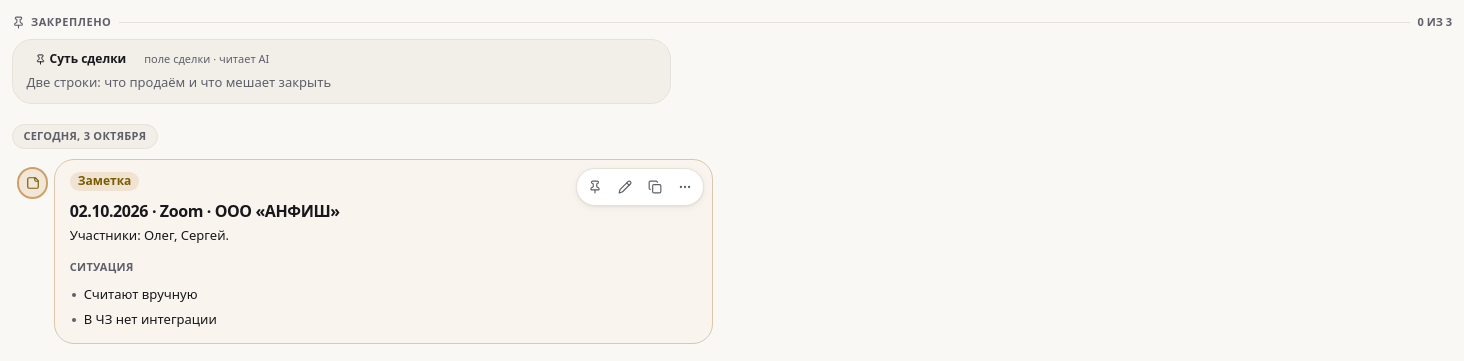
Test: DealActivityFeed: действия по правам › удалить — из меню «Ещё», без диалога подтверждения: сразу мутация (отмена — тостом)
Click the button named "Ещё" at (684, 187), box [670,173,698,201]
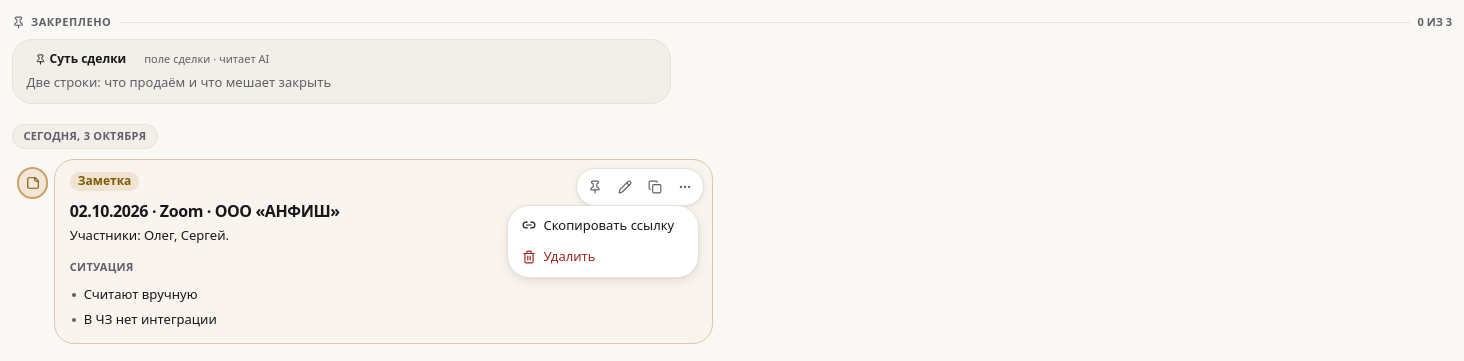
Now the menu item "Скопировать ссылку" is shown, box [512,210,694,241]
Click the menu item "Удалить" at (602, 257), box [512,241,694,273]
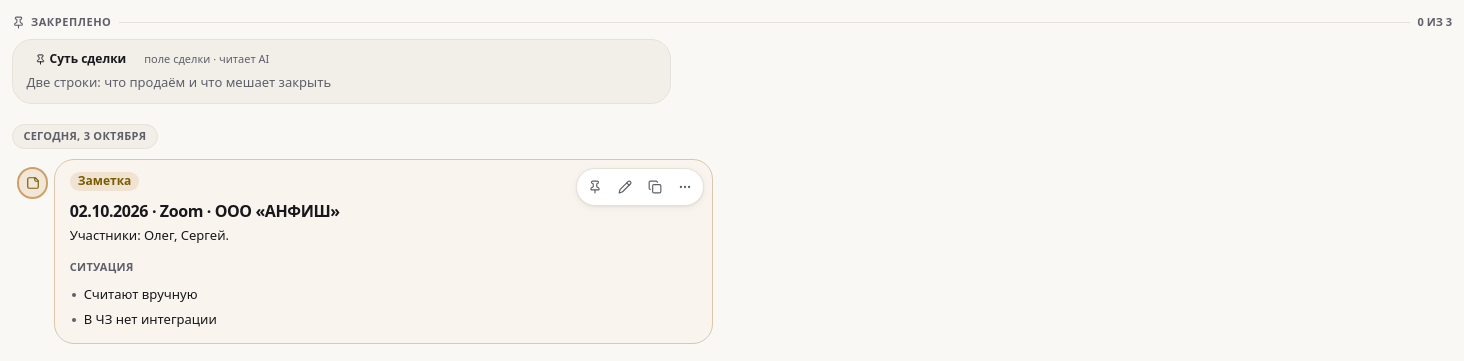
Now the menu is gone
